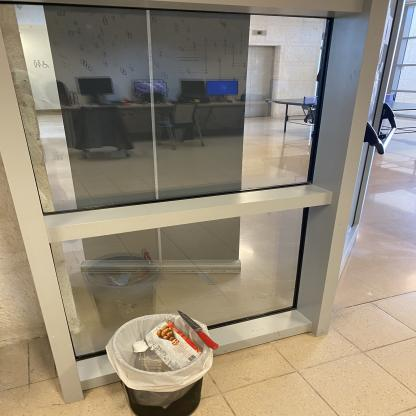Knife: (177, 310, 220, 351)
